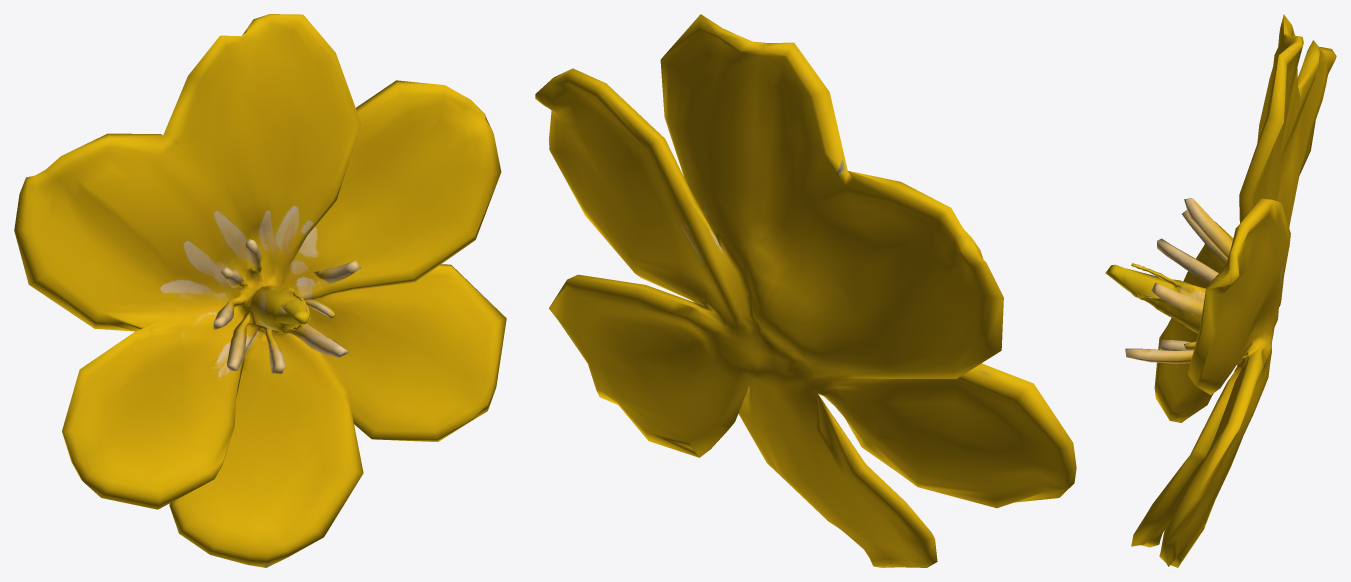
Rendered from yflower.glb.
3 views of the same model, side by side, from view 1: azimuth 30°, elevation 25°; view 2: azimuth 150°, elevation 25°; view 3: azimuth 270°, elevation 25° (orthographic). The views are drawn at different scales.
Visible parts, largest first — view 1: tripo_node_8cbbf96a; view 2: tripo_node_8cbbf96a; view 3: tripo_node_8cbbf96a.
Part boxes in pixels (<box>): tripo_node_8cbbf96a: <box>14,14,506,567</box>; tripo_node_8cbbf96a: <box>535,14,1076,567</box>; tripo_node_8cbbf96a: <box>1105,14,1336,567</box>.
Size of the model in its own units: 0.909 by 0.9538 by 0.3677.
1 material, 1 textured.
